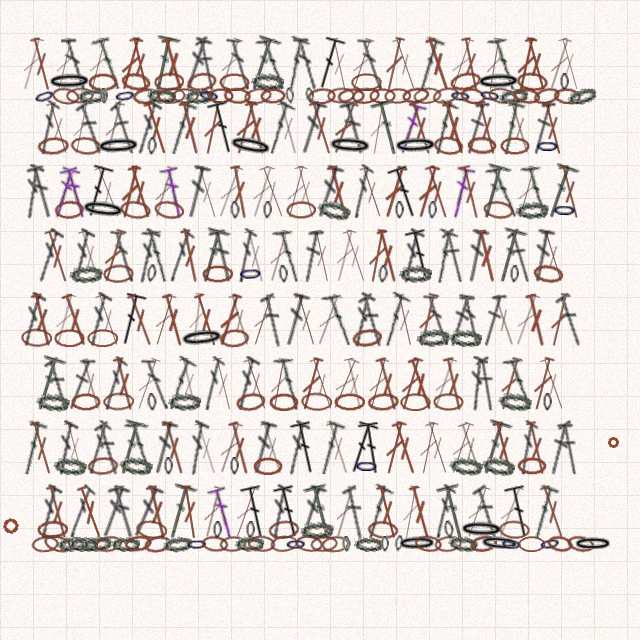chain: (227, 133, 274, 159), (80, 198, 126, 221), (179, 327, 225, 349), (327, 135, 373, 156), (96, 136, 141, 156), (316, 198, 352, 222), (47, 72, 92, 91), (476, 72, 521, 91), (393, 136, 438, 155), (459, 520, 504, 539), (479, 534, 520, 553), (481, 455, 516, 477), (566, 84, 598, 108), (449, 70, 482, 93), (186, 70, 218, 93), (119, 199, 152, 221), (482, 199, 515, 221), (416, 327, 450, 348), (498, 391, 532, 412), (119, 455, 153, 476), (42, 532, 73, 555), (120, 71, 152, 93), (153, 199, 185, 221), (532, 263, 564, 285), (351, 327, 383, 349), (235, 391, 267, 413), (135, 519, 168, 540), (515, 200, 549, 220), (69, 264, 103, 284), (36, 392, 70, 412), (53, 456, 87, 476), (449, 456, 483, 476), (300, 520, 334, 540), (397, 535, 437, 552), (516, 71, 548, 92), (268, 519, 300, 540), (532, 85, 562, 107), (433, 135, 464, 156), (37, 136, 69, 156), (70, 136, 102, 156), (367, 392, 399, 412), (87, 456, 119, 476), (367, 520, 399, 540), (573, 536, 613, 552), (431, 85, 461, 106), (251, 72, 284, 91), (399, 264, 432, 283), (168, 392, 201, 411), (498, 86, 529, 106), (219, 328, 250, 348), (162, 534, 193, 554), (243, 86, 273, 106), (487, 86, 517, 106), (449, 329, 482, 347), (54, 200, 85, 219), (103, 264, 134, 283), (21, 328, 52, 347), (103, 392, 134, 411), (301, 392, 332, 411), (37, 520, 68, 539), (499, 520, 530, 539), (51, 86, 80, 106), (512, 86, 541, 106), (94, 534, 123, 554), (143, 534, 172, 554), (566, 534, 595, 554), (154, 72, 184, 91), (77, 86, 107, 105), (467, 136, 497, 155), (57, 534, 87, 553), (82, 534, 112, 553), (448, 534, 478, 553), (459, 86, 487, 106), (546, 534, 574, 554), (219, 73, 250, 91), (351, 73, 382, 91), (202, 265, 233, 283), (54, 329, 85, 347), (87, 329, 118, 347), (334, 393, 365, 411), (400, 393, 431, 411), (433, 393, 464, 411), (351, 86, 380, 105), (401, 86, 430, 105), (413, 86, 442, 105), (469, 534, 498, 553), (32, 85, 57, 107), (88, 73, 118, 91), (184, 87, 214, 105), (500, 137, 530, 155), (286, 201, 316, 219), (71, 393, 101, 411), (269, 393, 299, 411), (253, 457, 283, 475), (517, 457, 547, 475), (124, 534, 152, 553), (270, 534, 298, 553), (295, 534, 323, 553), (414, 534, 442, 553), (307, 87, 336, 105), (321, 535, 350, 553), (132, 87, 160, 105), (337, 87, 365, 105), (553, 87, 581, 105), (31, 535, 59, 553), (201, 535, 229, 553), (219, 535, 247, 553), (310, 535, 338, 553), (434, 535, 462, 553), (147, 87, 176, 104), (235, 535, 264, 552), (247, 535, 276, 552), (66, 87, 94, 104), (223, 87, 251, 104), (327, 87, 355, 104), (238, 264, 263, 283), (69, 536, 98, 552), (111, 536, 140, 552), (354, 536, 383, 552), (158, 87, 185, 104), (113, 86, 137, 105), (197, 86, 221, 105), (478, 86, 502, 105), (538, 534, 562, 553), (535, 137, 560, 155), (552, 201, 577, 219), (354, 457, 379, 475), (172, 88, 199, 104), (207, 88, 234, 104), (369, 88, 396, 104), (384, 88, 411, 104), (518, 536, 545, 552), (260, 88, 286, 104), (449, 87, 472, 105), (500, 535, 523, 553), (186, 536, 208, 552), (285, 536, 307, 552), (443, 520, 455, 539), (146, 264, 157, 283), (278, 265, 289, 283), (147, 137, 157, 155), (230, 201, 240, 219), (378, 265, 388, 283), (147, 393, 157, 411), (285, 87, 295, 104), (305, 87, 315, 104), (394, 535, 404, 552), (560, 73, 569, 91), (263, 201, 272, 219), (395, 201, 404, 219), (428, 201, 437, 219), (510, 265, 519, 283), (543, 393, 552, 411), (164, 457, 173, 475), (230, 457, 239, 475), (213, 521, 222, 539), (246, 521, 255, 539), (342, 536, 351, 552), (100, 88, 108, 104), (381, 536, 389, 552)
double: (540, 163, 580, 221), (243, 35, 282, 93), (386, 163, 424, 221), (29, 355, 67, 413), (475, 419, 513, 477), (485, 163, 523, 220), (475, 163, 512, 221), (194, 227, 231, 285), (491, 227, 528, 285), (112, 419, 149, 477), (343, 419, 380, 477), (161, 483, 198, 541), (303, 483, 340, 541), (161, 355, 198, 412), (370, 99, 406, 157), (436, 483, 472, 541), (326, 356, 363, 412), (128, 484, 165, 540), (255, 35, 291, 92), (311, 35, 347, 92), (410, 35, 446, 92), (162, 99, 198, 156), (261, 99, 297, 156), (321, 291, 357, 348), (502, 355, 538, 412), (90, 164, 126, 220), (492, 484, 528, 540), (90, 35, 125, 92), (80, 163, 115, 220), (377, 291, 412, 348), (360, 483, 395, 540), (525, 483, 560, 540), (327, 100, 362, 156), (212, 164, 247, 220), (255, 164, 290, 220), (123, 292, 158, 348), (311, 292, 346, 348), (509, 292, 544, 348), (73, 484, 108, 540), (228, 484, 263, 540), (147, 35, 181, 92), (487, 35, 521, 92), (206, 99, 240, 156), (114, 291, 148, 348), (312, 419, 346, 476), (272, 483, 306, 540), (213, 36, 247, 92), (388, 36, 422, 92), (421, 36, 455, 92), (444, 36, 478, 92), (338, 228, 372, 284), (58, 292, 92, 348), (91, 292, 125, 348), (487, 292, 521, 348), (130, 356, 164, 412), (239, 356, 273, 412), (305, 356, 339, 412), (404, 356, 438, 412), (427, 356, 461, 412), (536, 356, 570, 412), (213, 420, 247, 476), (388, 420, 422, 476), (444, 420, 478, 476), (454, 420, 488, 476), (97, 484, 131, 540), (460, 484, 494, 540), (536, 484, 570, 540), (427, 99, 460, 156), (520, 163, 553, 220), (272, 227, 305, 284), (404, 227, 437, 284), (15, 419, 48, 476), (124, 419, 157, 476), (289, 419, 322, 476), (239, 483, 272, 540), (503, 483, 536, 540), (31, 228, 65, 283), (180, 36, 213, 92), (345, 36, 378, 92), (543, 36, 576, 92), (140, 100, 173, 156), (305, 100, 338, 156), (394, 100, 427, 156), (48, 164, 81, 220), (124, 164, 157, 220), (246, 164, 279, 220), (312, 164, 345, 220), (355, 164, 388, 220), (378, 164, 411, 220), (421, 164, 454, 220), (41, 228, 74, 284), (74, 228, 107, 284), (190, 292, 223, 348), (213, 292, 246, 348), (246, 292, 279, 348), (190, 420, 223, 476), (256, 420, 289, 476), (322, 420, 355, 476), (421, 420, 454, 476), (107, 484, 140, 540), (295, 484, 328, 540), (494, 99, 526, 156), (141, 227, 173, 284), (273, 355, 305, 412), (74, 100, 107, 155), (130, 100, 163, 155), (64, 484, 97, 539), (16, 36, 48, 92), (115, 36, 147, 92), (42, 100, 74, 156), (296, 100, 328, 156), (405, 100, 437, 156), (438, 100, 470, 156), (504, 100, 536, 156), (26, 164, 58, 220), (59, 164, 91, 220), (148, 164, 180, 220), (191, 164, 223, 220), (412, 164, 444, 220), (98, 228, 130, 284), (263, 228, 295, 284), (537, 228, 569, 284), (148, 292, 180, 348), (224, 292, 256, 348), (290, 292, 322, 348), (75, 356, 107, 412), (395, 356, 427, 412), (494, 356, 526, 412), (26, 420, 58, 476), (158, 420, 190, 476), (329, 484, 361, 540), (280, 35, 311, 92), (164, 228, 196, 283), (554, 292, 586, 347), (26, 36, 57, 92), (158, 36, 189, 92), (521, 36, 552, 92), (554, 36, 585, 92), (230, 100, 261, 156), (273, 100, 304, 156), (339, 100, 370, 156), (280, 164, 311, 220), (290, 164, 321, 220), (323, 164, 354, 220), (511, 164, 542, 220), (240, 228, 271, 284), (49, 292, 80, 348), (158, 292, 189, 348), (280, 292, 311, 348), (296, 356, 327, 412), (362, 356, 393, 412), (372, 356, 403, 412), (59, 420, 90, 476), (224, 420, 255, 476), (42, 484, 73, 540), (207, 484, 238, 540), (372, 484, 403, 540), (405, 484, 436, 540), (108, 100, 139, 155), (16, 292, 47, 347), (82, 292, 113, 347), (65, 356, 96, 411), (141, 356, 172, 411), (230, 356, 261, 411), (471, 484, 502, 539), (83, 36, 113, 92), (99, 100, 129, 156), (175, 100, 205, 156), (241, 100, 271, 156), (472, 100, 502, 156), (538, 100, 568, 156), (182, 164, 212, 220), (446, 164, 476, 220), (555, 164, 585, 220), (66, 228, 96, 284), (208, 228, 238, 284), (330, 228, 360, 284), (373, 228, 403, 284), (429, 228, 459, 284), (27, 292, 57, 348), (357, 292, 387, 348), (43, 356, 73, 412), (109, 356, 139, 412), (208, 356, 238, 412), (528, 356, 558, 412), (93, 420, 123, 476), (149, 420, 179, 476), (248, 420, 278, 476), (281, 420, 311, 476), (357, 420, 387, 476), (380, 420, 410, 476), (489, 420, 519, 476), (33, 484, 63, 540), (142, 484, 172, 540), (198, 484, 228, 540), (505, 228, 535, 283), (99, 356, 129, 411), (83, 420, 113, 475), (50, 36, 79, 92), (126, 36, 155, 92), (380, 36, 409, 92), (512, 36, 541, 92), (116, 164, 145, 220), (159, 164, 188, 220), (456, 164, 485, 220), (132, 228, 161, 284), (307, 228, 336, 284), (396, 228, 425, 284), (472, 228, 501, 284), (347, 292, 376, 348), (390, 292, 419, 348), (413, 292, 442, 348), (446, 292, 475, 348), (522, 292, 551, 348), (545, 292, 574, 348), (175, 356, 204, 412), (340, 356, 369, 412), (439, 356, 468, 412), (522, 420, 551, 476), (357, 36, 386, 91), (423, 292, 452, 347), (325, 36, 353, 92), (457, 36, 485, 92), (67, 100, 95, 156), (199, 100, 227, 156), (176, 228, 204, 284), (51, 420, 79, 476), (414, 420, 442, 476), (440, 228, 468, 283), (61, 36, 88, 92), (226, 164, 253, 220), (364, 228, 391, 284), (463, 228, 490, 284), (529, 228, 556, 284), (259, 292, 286, 348), (265, 356, 292, 412), (183, 420, 210, 476), (546, 420, 573, 476), (265, 484, 292, 540), (341, 484, 368, 540), (397, 484, 424, 540), (226, 36, 253, 91), (463, 100, 490, 155), (348, 164, 375, 219), (110, 228, 137, 283), (480, 292, 507, 347), (199, 356, 226, 411), (430, 484, 457, 539), (481, 36, 507, 92), (365, 100, 391, 156), (177, 484, 203, 540), (293, 36, 319, 91), (35, 100, 61, 155), (530, 100, 556, 155), (19, 164, 45, 219), (194, 36, 219, 91), (233, 228, 258, 283), (557, 420, 582, 475), (300, 228, 324, 283), (185, 292, 209, 347), (459, 292, 483, 347), (515, 420, 539, 475), (465, 356, 488, 411), (475, 356, 498, 411)
noise: (1, 516, 21, 536), (607, 436, 619, 448)
